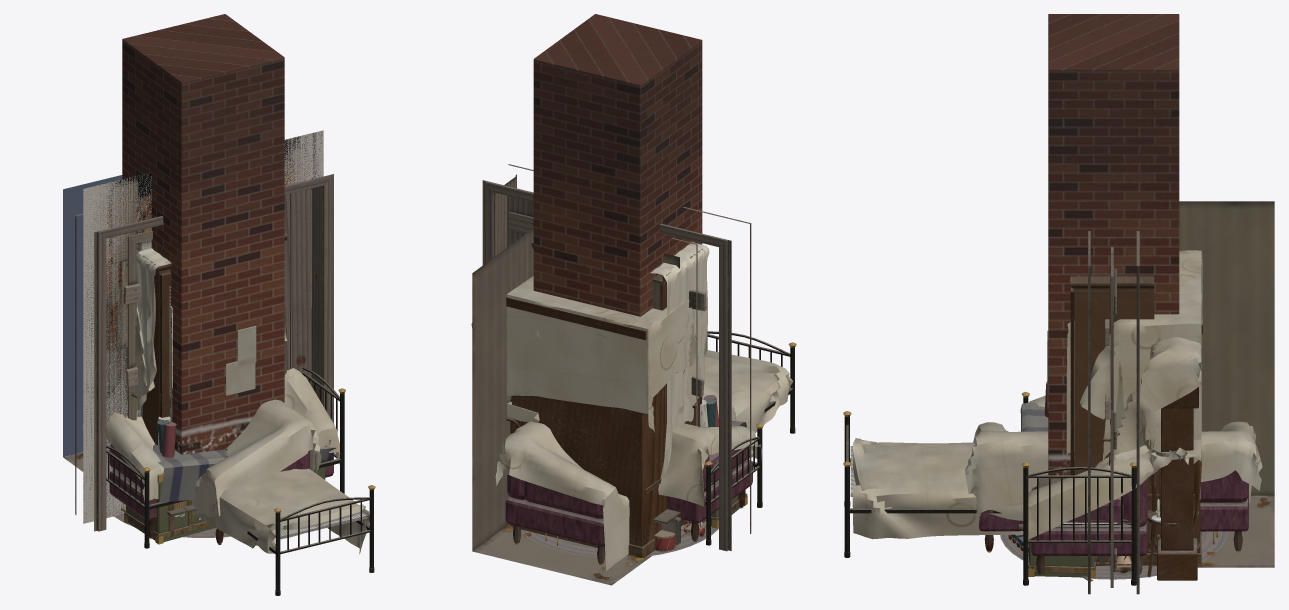
Rendered from attic.glb.
3 renders of one model, left to right at view 1: azimuth 30°, elevation 25°; view 2: azimuth 150°, elevation 25°; view 3: azimuth 270°, elevation 25°, orthographic. The views are drawn at different scales.
Visible parts, largest first — view 1: Col_chimney_breast_H400, Door_frame_attic, Solid_iron_bed_sheeted, Exit_attic_p0, Solid_sheet_sofa, Door_closed_attic, Isl_sheeted_sofa, Exit_attic_p1, Isl_servant_bed, Door_leaf_attic, Win_dormer, Ward_body_attic (+8 smaller); view 2: Col_chimney_breast_H400, Isl_sheeted_armoire, Exit_attic_p0, Solid_sheet_sofa, Door_frame_attic, Isl_sheeted_sofa, Ward_body_attic, Solid_iron_bed_sheeted, Isl_servant_bed, Isl_toy_circle, Door_leaf_attic, Exit_boards_attic (+2 smaller); view 3: Col_chimney_breast_H400, Exit_attic_p0, Isl_sheeted_sofa, Solid_iron_bed_sheeted, Solid_sheet_sofa, Isl_sheeted_armoire, Ward_body_attic, Isl_servant_bed, Door_frame_attic, Isl_dress_forms, Isl_toy_circle, Door_leaf_attic (+3 smaller).
Part boxes in pixels (<box>): Col_chimney_breast_H400: <box>122,14,284,454</box>; Door_frame_attic: <box>75,174,333,531</box>; Solid_iron_bed_sheeted: <box>192,468,375,595</box>; Exit_attic_p0: <box>63,133,322,521</box>; Solid_sheet_sofa: <box>192,399,321,544</box>; Door_closed_attic: <box>83,130,323,523</box>; Isl_sheeted_sofa: <box>82,368,340,538</box>; Exit_attic_p1: <box>63,175,122,457</box>; Isl_servant_bed: <box>106,367,345,548</box>; Door_leaf_attic: <box>284,189,311,385</box>; Win_dormer: <box>83,130,323,522</box>; Ward_body_attic: <box>136,233,288,445</box>; Col_chimney_breast_H400: <box>533,14,702,399</box>; Isl_sheeted_armoire: <box>506,276,700,557</box>; Exit_attic_p0: <box>472,228,697,585</box>; Solid_sheet_sofa: <box>495,384,736,570</box>; Door_frame_attic: <box>482,164,751,551</box>; Isl_sheeted_sofa: <box>471,323,762,541</box>; Ward_body_attic: <box>531,241,709,525</box>; Solid_iron_bed_sheeted: <box>704,331,796,433</box>; Isl_servant_bed: <box>506,417,763,548</box>; Isl_toy_circle: <box>521,521,718,558</box>; Door_leaf_attic: <box>507,195,533,247</box>; Exit_boards_attic: <box>689,289,706,408</box>; Col_chimney_breast_H400: <box>1047,14,1179,478</box>; Exit_attic_p0: <box>1113,201,1274,567</box>; Isl_sheeted_sofa: <box>1028,337,1201,580</box>; Solid_iron_bed_sheeted: <box>843,411,1023,557</box>; Solid_sheet_sofa: <box>965,421,1262,552</box>; Isl_sheeted_armoire: <box>1074,250,1202,565</box>; Ward_body_attic: <box>1070,276,1154,565</box>; Isl_servant_bed: <box>1020,392,1205,585</box>; Door_frame_attic: <box>1088,231,1139,594</box>; Isl_dress_forms: <box>1038,381,1160,560</box>; Isl_toy_circle: <box>1000,531,1227,579</box>; Door_leaf_attic: <box>1109,247,1116,587</box>.
Size of the model in its own units: 2.25 by 4.23 by 3.19.
37 materials, 33 textured.
